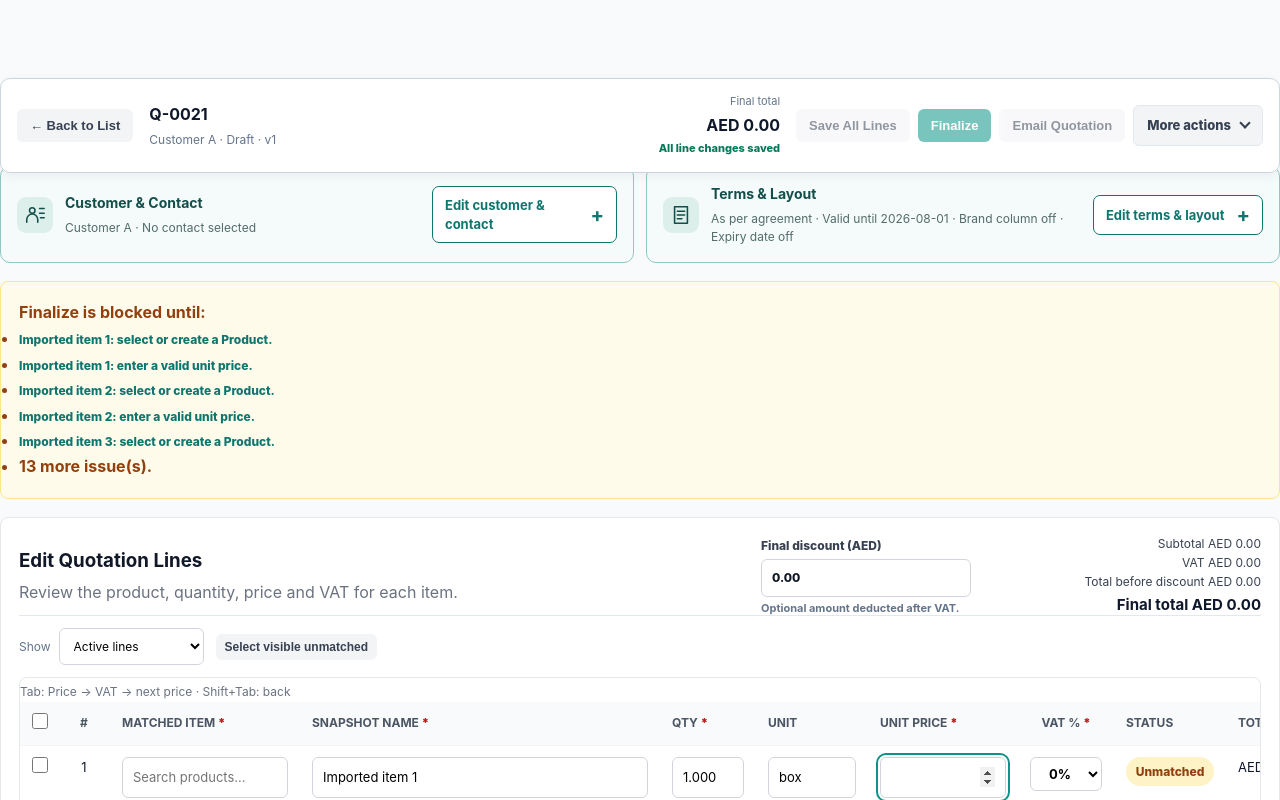
Scenario: QuotationEditor Product price context › keeps nine quotation product pickers small and selects a product found beyond the initial list
Type "Nitrile gloves" into the dropdown named "Product for Imported item 1" at coordinates (205, 777), box [122,757,288,798]
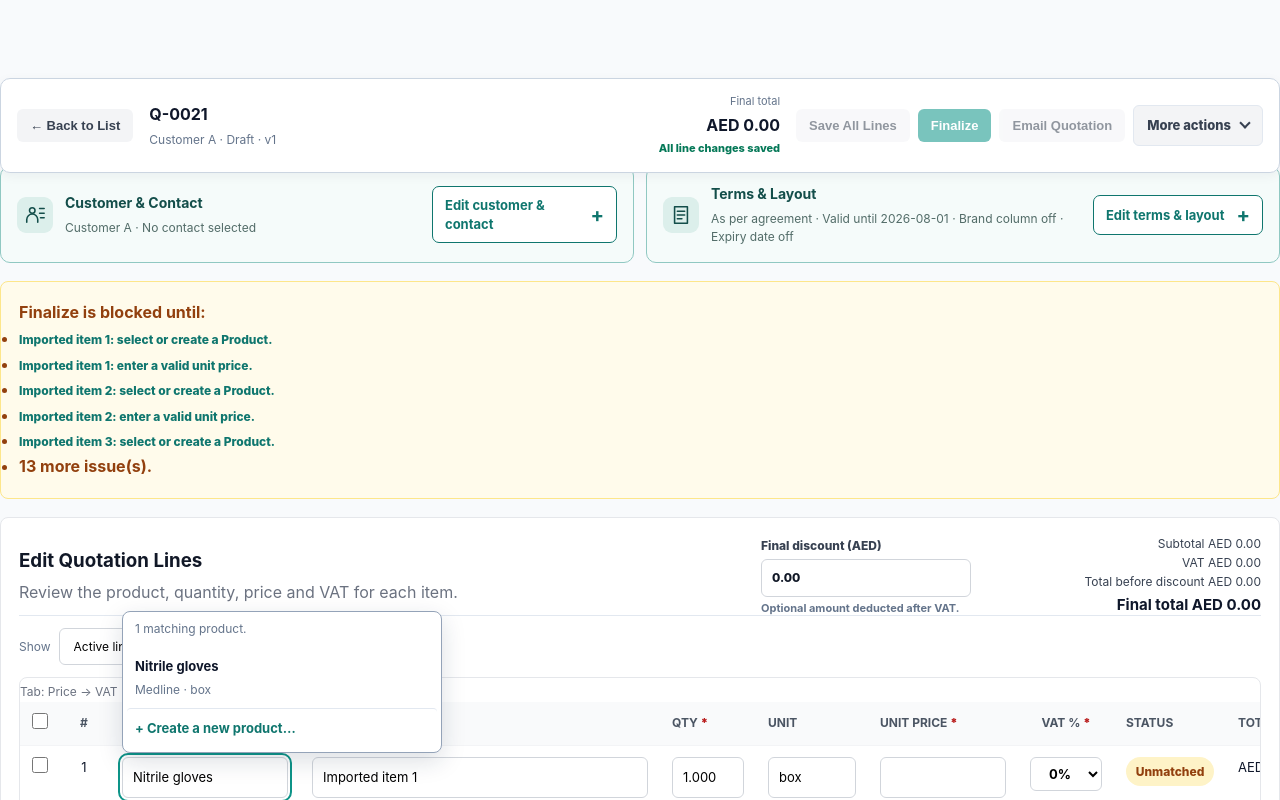
Click the text "Nitrile gloves" at coordinates (177, 666), box [135,658,218,674]
(page scrolled)
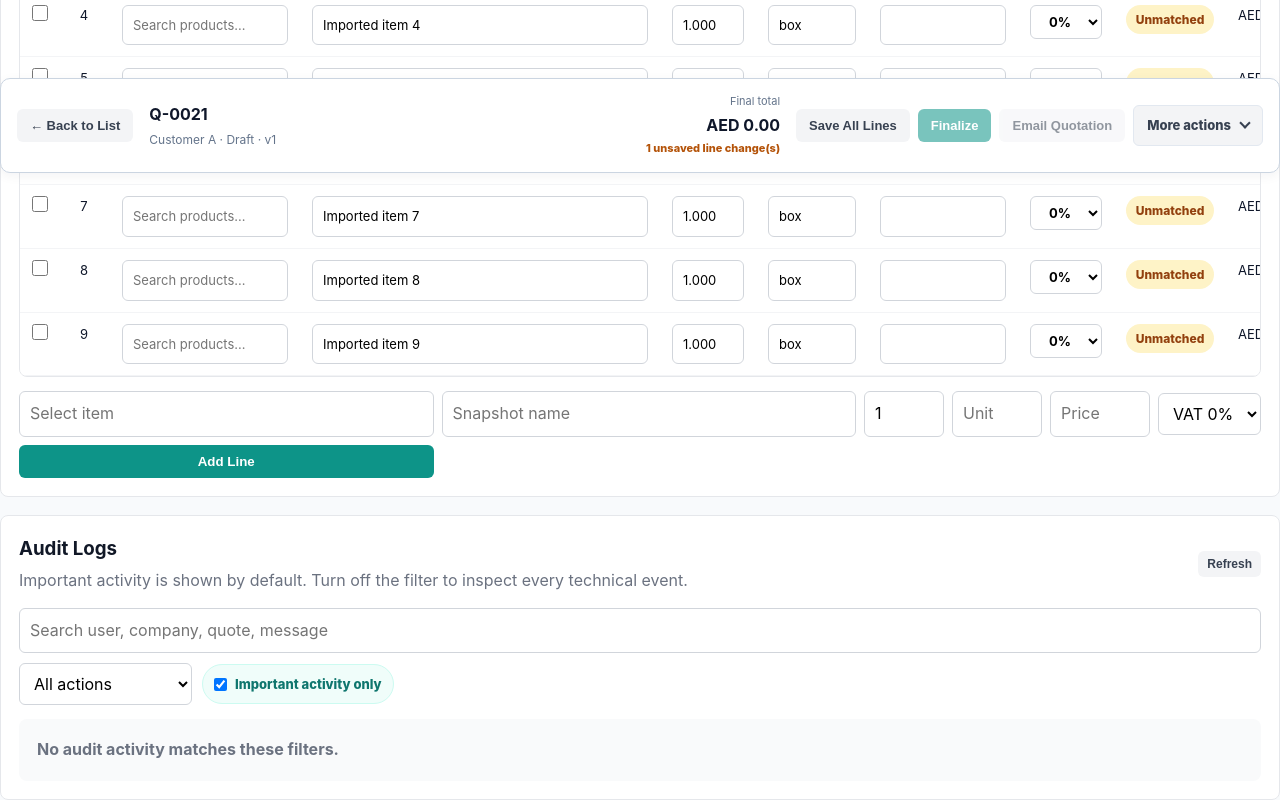
Type "Nitrile gloves" into the dropdown named "Product for new line" at coordinates (226, 414), box [19,391,434,437]
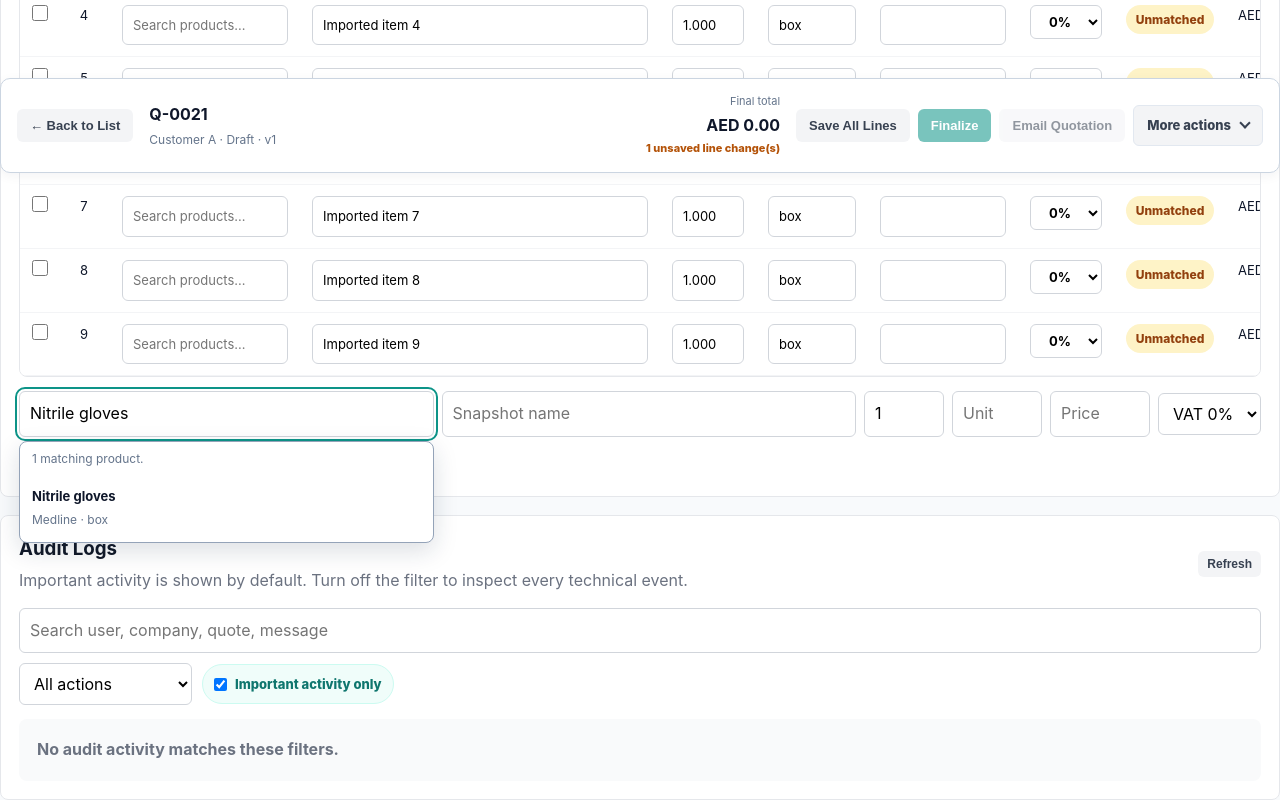
Click the text "Nitrile gloves" at coordinates (74, 496), box [32,488,116,504]
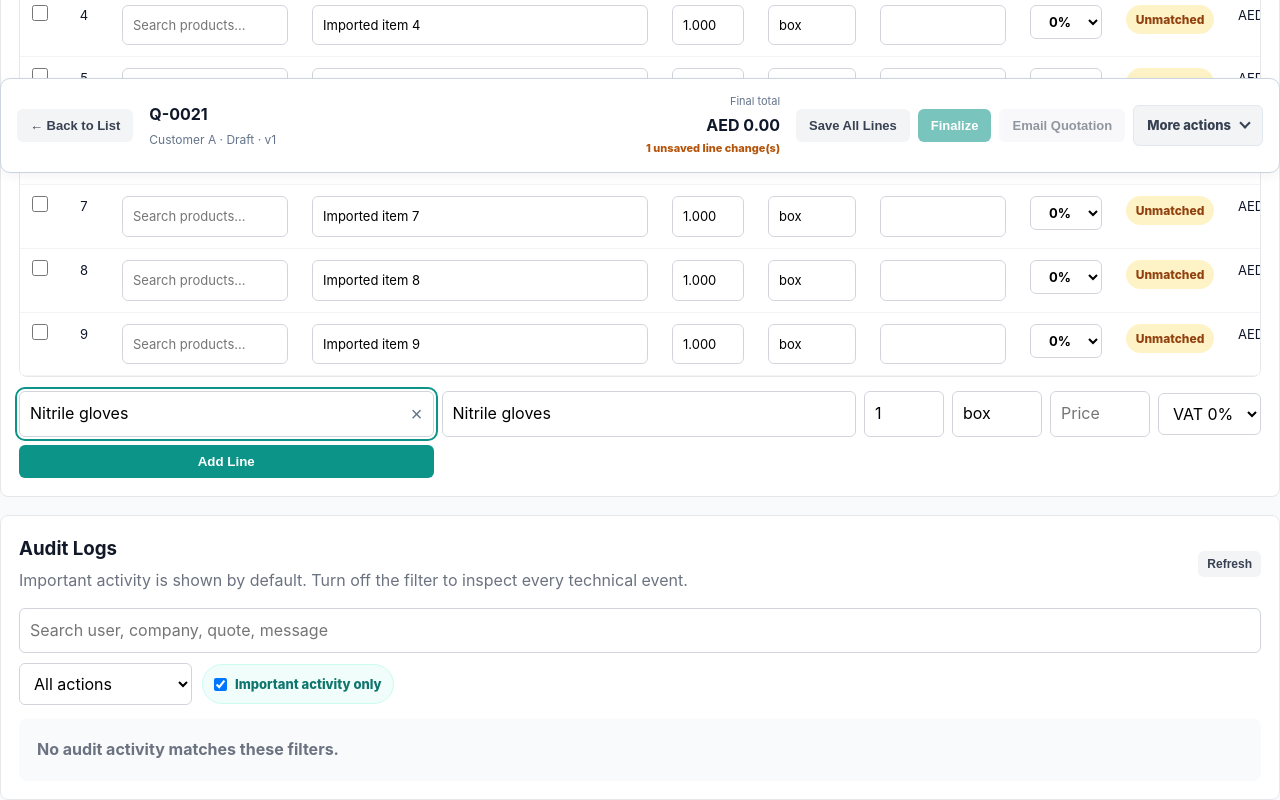
Now the 5th field with placeholder "Snapshot name" holds "Nitrile gloves", box [442,391,856,437]
